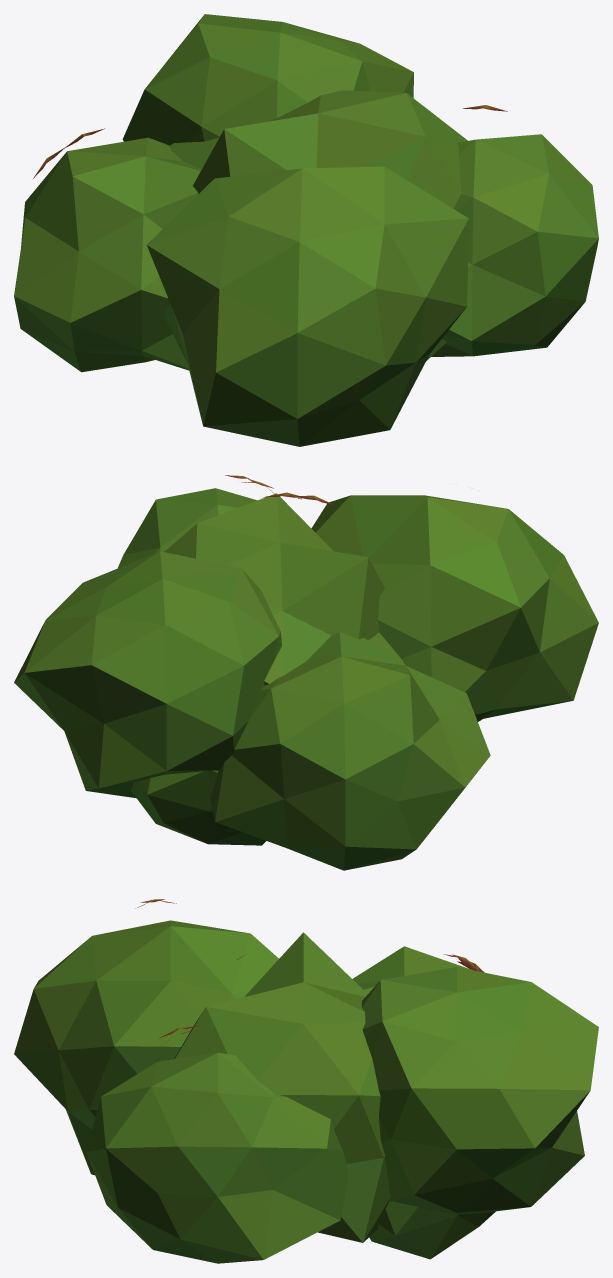
The model's file is hibiscus.glb.
3 views of the same model, one above another, from view 1: azimuth 30°, elevation 25°; view 2: azimuth 150°, elevation 25°; view 3: azimuth 270°, elevation 25° (orthographic). The views are drawn at different scales.
Visible parts, largest first — view 1: bush_hibiscus_leafy; view 2: bush_hibiscus_leafy; view 3: bush_hibiscus_leafy.
Part boxes in pixels (x1,y1,x2,y2): bush_hibiscus_leafy: [14, 14, 598, 446]; bush_hibiscus_leafy: [14, 475, 598, 870]; bush_hibiscus_leafy: [14, 899, 598, 1263].
Bounding box in the file's own units: 1.76 × 1.04 × 2.01.
